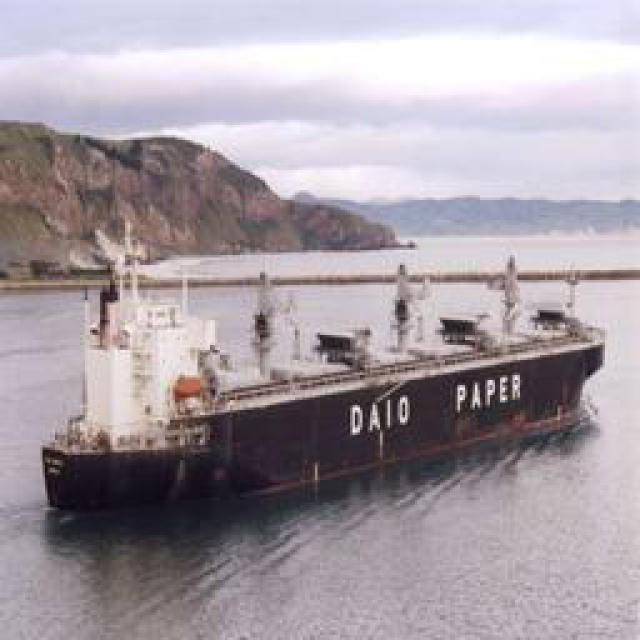Ship: (35, 259, 608, 524)
